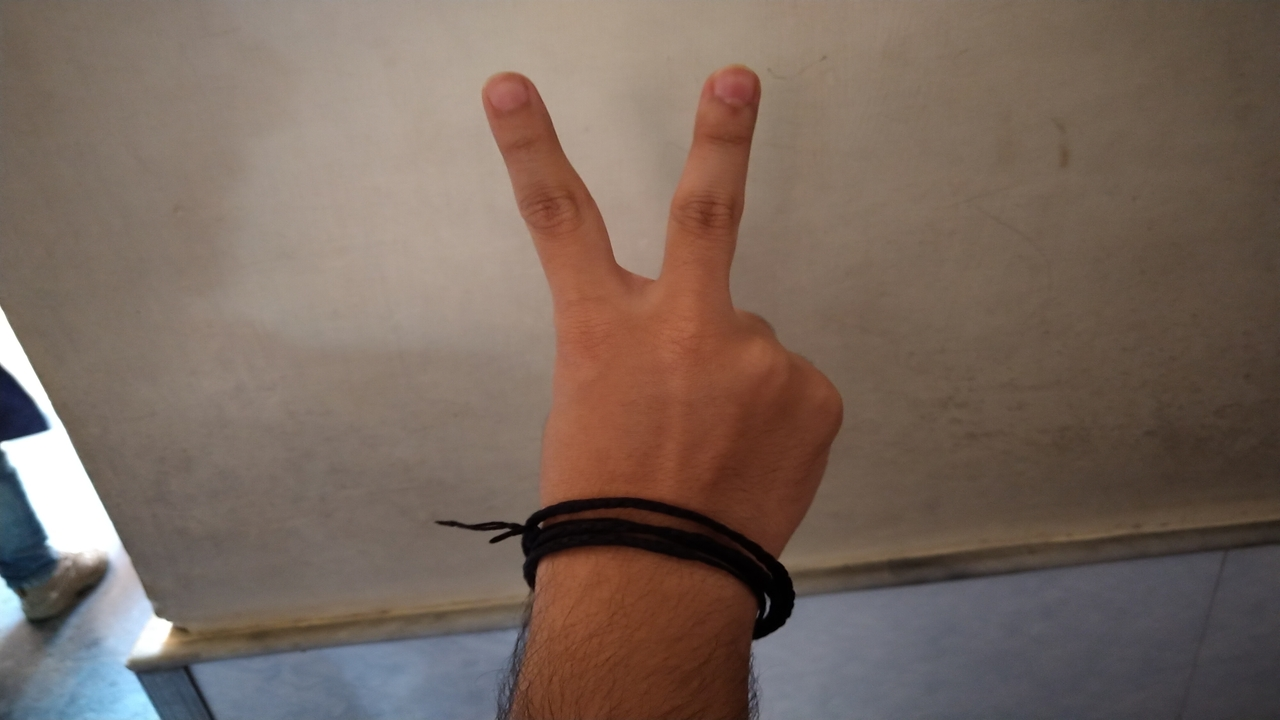fingertip: (696, 62, 762, 120), (474, 68, 542, 122)
